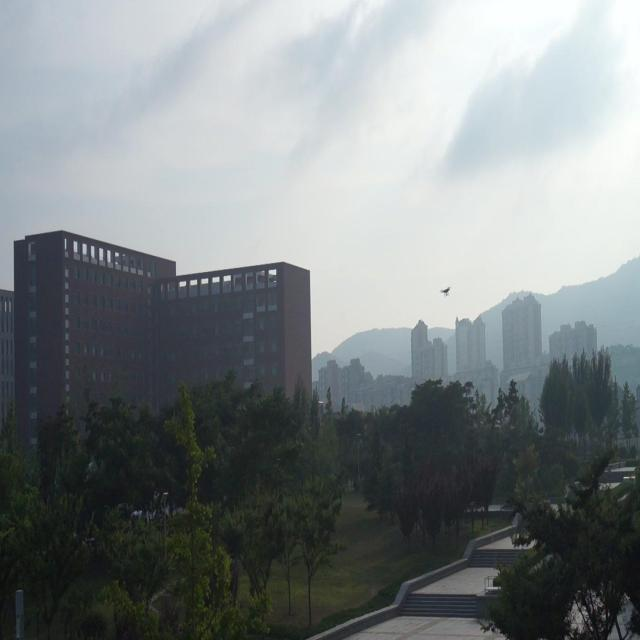drone: (438, 280, 455, 300)
